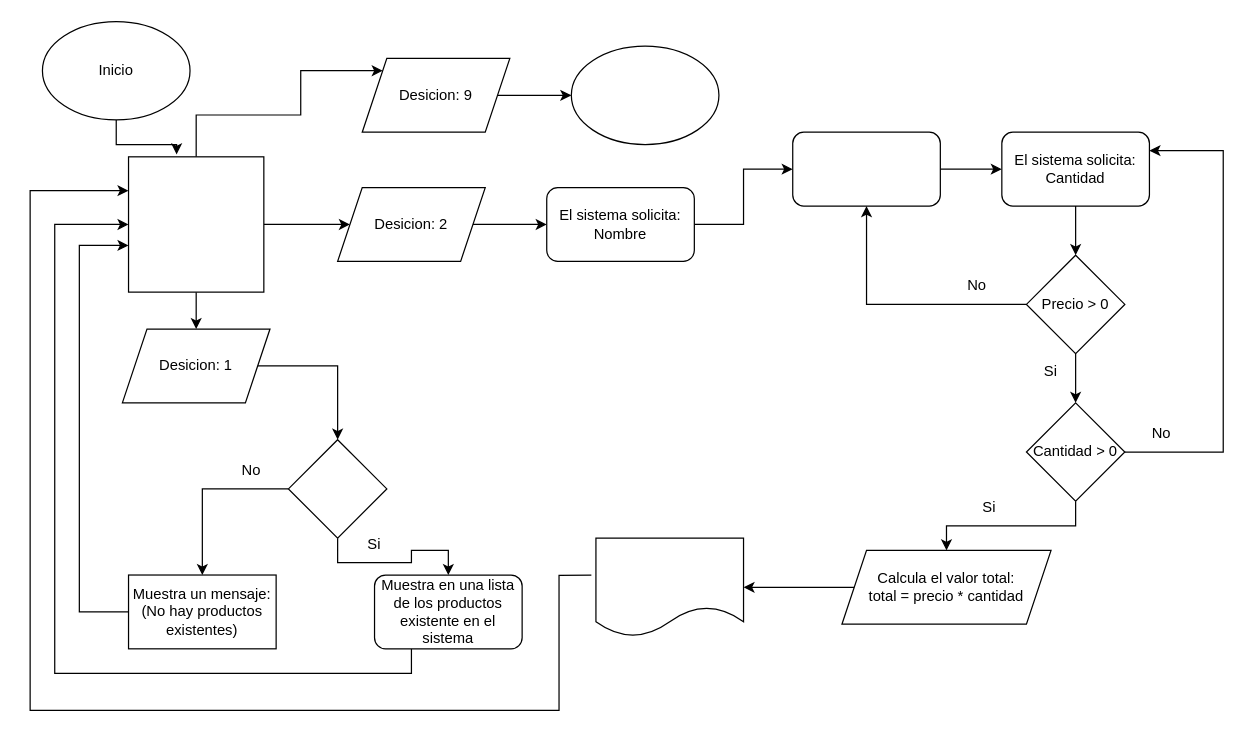
Image size: 1255x742. Some labels were removed from this diagram. Here are the shapes that lost their labels. From the top down, the centre of each, then its label:
At (644,95): "Fin".
At (866,168): "El sistema solicita: Precio".
At (195,224): "Mostrar Menu: 1. Ver productos 2. Agregar Producto 3. Salir del sistema".
At (337,488): "Existen Productos".
At (669,587): "Imprime un mensaje Exitoso con el nombre del producto agregado".
